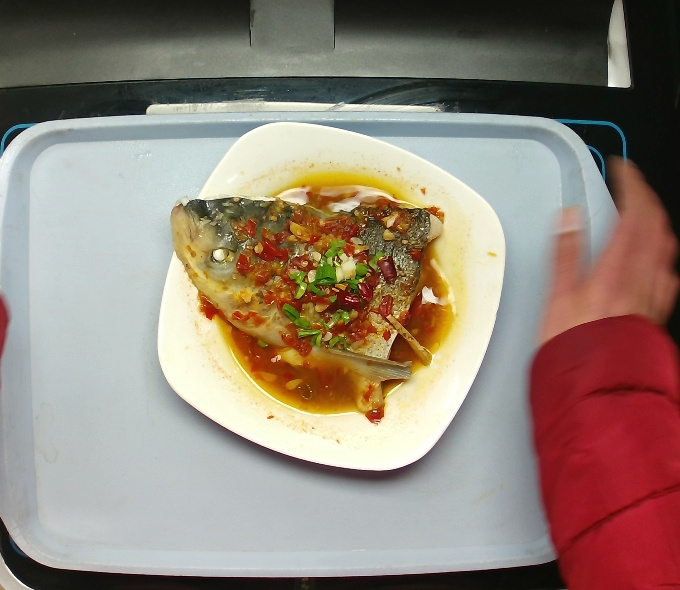wcq-DuoJiaoYuTou: (164, 177, 459, 422)
